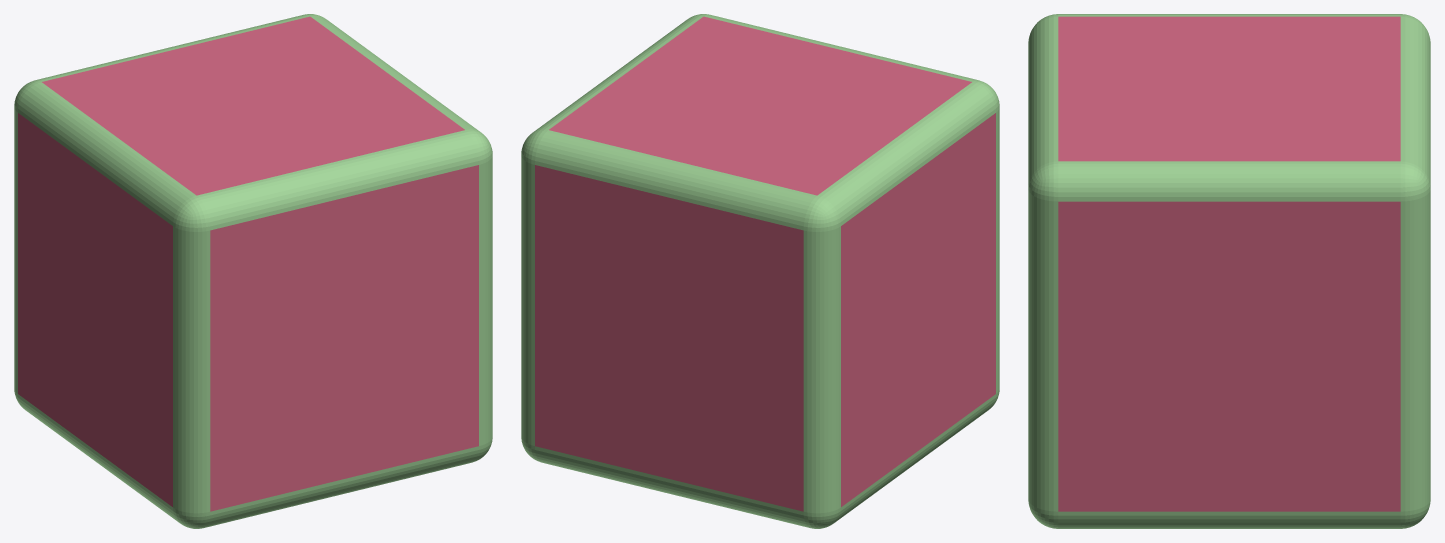
The model's file is rounded_cube.dae.
3 views of the same model, side by side, from view 1: azimuth 30°, elevation 25°; view 2: azimuth 150°, elevation 25°; view 3: azimuth 270°, elevation 25° (orthographic). The views are drawn at different scales.
Visible parts, largest first — view 1: Cube; view 2: Cube; view 3: Cube.
Boxes of the visible parts, box(x1,y1,x2,y2) form: Cube: box(14, 14, 492, 528); Cube: box(521, 14, 999, 528); Cube: box(1028, 14, 1430, 528).
Bounding box in the file's own units: 2 × 2 × 2.
